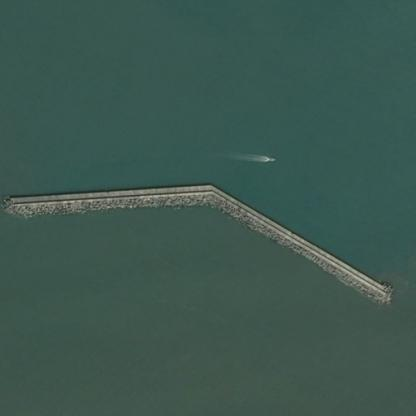ship: (249, 156, 258, 162)
